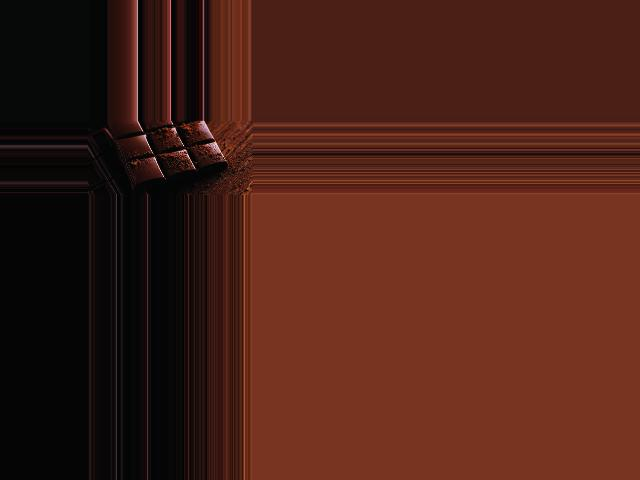chocolate: (106, 121, 232, 188)
